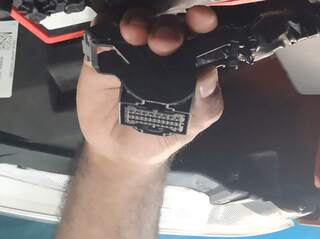connector: (118, 71, 192, 137)
